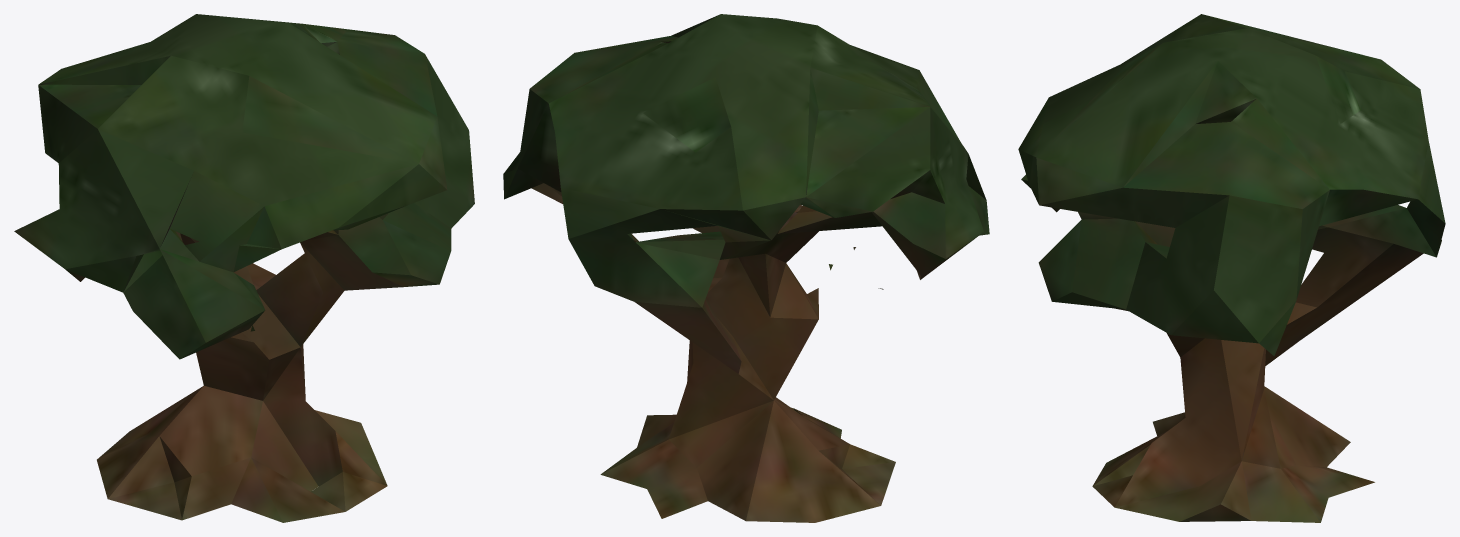
File: bg_forest_leaf_3_lod1.glb
3 renders of one model, left to right at view 1: azimuth 30°, elevation 25°; view 2: azimuth 150°, elevation 25°; view 3: azimuth 270°, elevation 25°, orthographic. The views are drawn at different scales.
Parts seen in each view (by area): view 1: sway, body; view 2: sway, body; view 3: sway, body.
Part boxes in pixels (x1=…): sway: x1=14, y1=14, x2=474, y2=359; body: x1=97, y1=177, x2=403, y2=522; sway: x1=503, y1=14, x2=989, y2=307; body: x1=531, y1=183, x2=980, y2=522; sway: x1=1018, y1=14, x2=1445, y2=355; body: x1=1092, y1=221, x2=1423, y2=522.
Size of the model in its own units: 4.97 by 4.69 by 4.2.
1 material, 1 textured.
